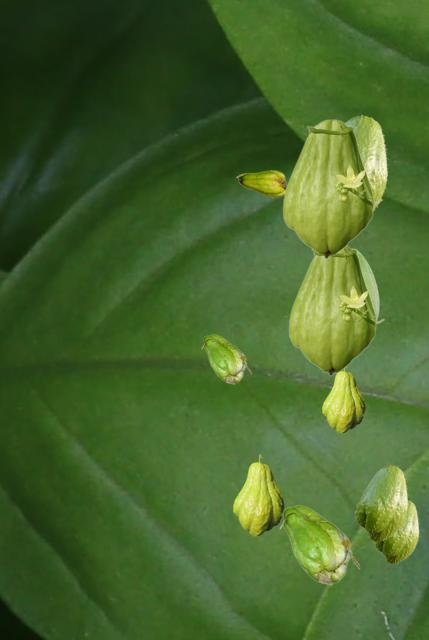sayote: (282, 119, 382, 258), (288, 245, 384, 375), (279, 505, 358, 584), (233, 454, 283, 535), (345, 115, 387, 211), (354, 465, 407, 541), (373, 500, 418, 563), (322, 367, 364, 432), (201, 334, 250, 383), (358, 251, 378, 318), (236, 170, 285, 196)
